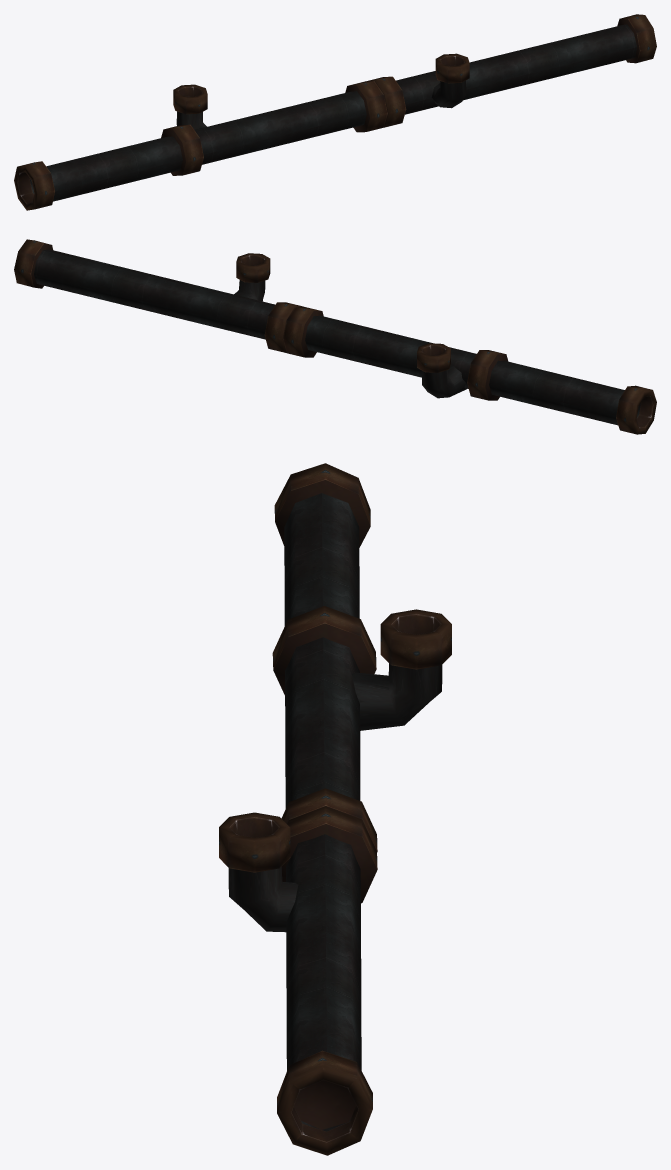
The model's file is sewer_pipe005.FBX.
3 views of the same model, one above another, from view 1: azimuth 30°, elevation 25°; view 2: azimuth 150°, elevation 25°; view 3: azimuth 270°, elevation 25° (orthographic). The views are drawn at different scales.
Visible parts, largest first — view 1: sewer_pipe005; view 2: sewer_pipe005; view 3: sewer_pipe005.
Boxes of the visible parts, box(x1,y1,x2,y2) form: sewer_pipe005: box(14, 14, 656, 210); sewer_pipe005: box(14, 239, 656, 434); sewer_pipe005: box(219, 463, 451, 1155).
Bounding box in the file's own units: 2054 × 207 × 335.
